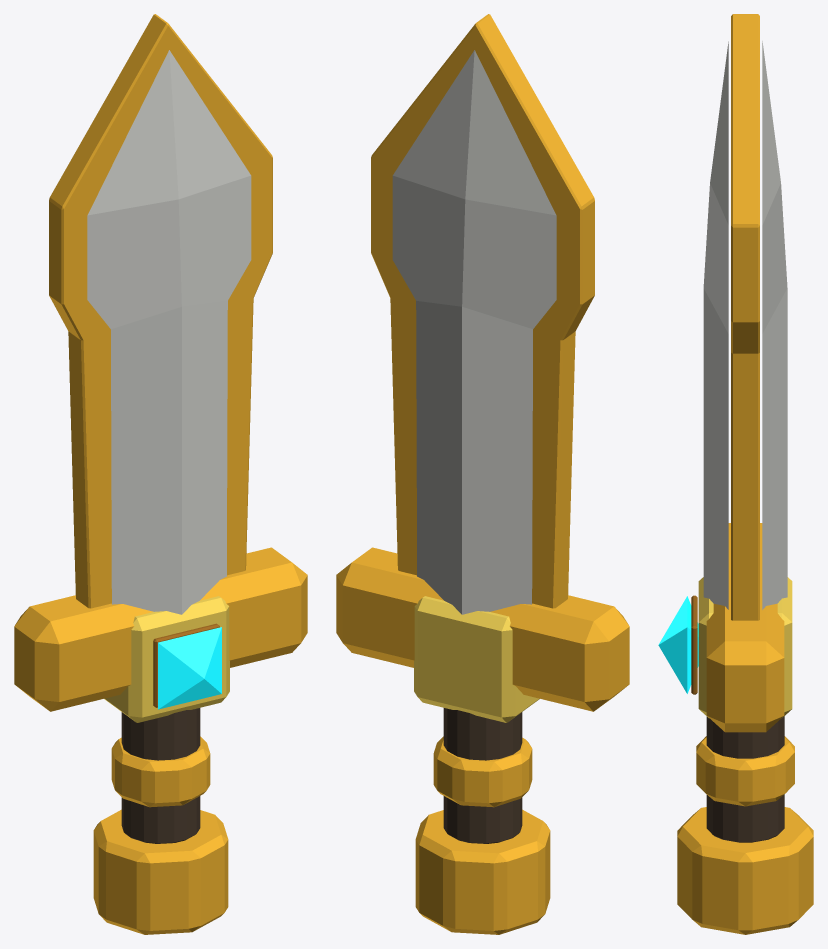
File: GoldenSword.fbx
3 views of the same model, side by side, from view 1: azimuth 30°, elevation 25°; view 2: azimuth 150°, elevation 25°; view 3: azimuth 270°, elevation 25° (orthographic).
Visible parts, largest first — view 1: GoldenSword; view 2: GoldenSword; view 3: GoldenSword.
Part boxes in pixels (x1=…): GoldenSword: x1=14, y1=14, x2=307, y2=934; GoldenSword: x1=336, y1=14, x2=629, y2=934; GoldenSword: x1=658, y1=14, x2=813, y2=934.
Bounding box in the file's own units: 49 × 153 × 24.04.
